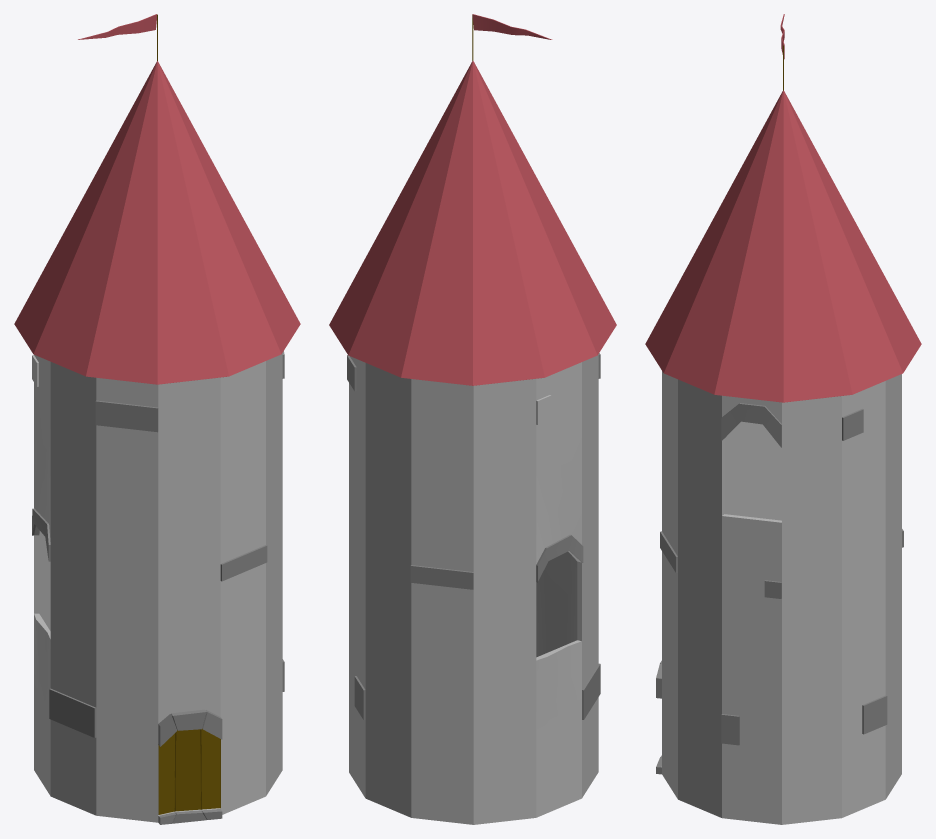
Rendered from tour.fbx.
3 renders of one model, left to right at view 1: azimuth 30°, elevation 25°; view 2: azimuth 150°, elevation 25°; view 3: azimuth 270°, elevation 25°, orthographic. The views are drawn at different scales.
Parts seen in each view (by area): view 1: pCone2; view 2: pCone2; view 3: pCone2.
Part boxes in pixels (x1,y1,x2,y2): pCone2: (14, 14, 300, 824); pCone2: (329, 14, 616, 824); pCone2: (645, 14, 921, 824).
Size of the model in its own units: 27.24 by 79.27 by 27.24.
